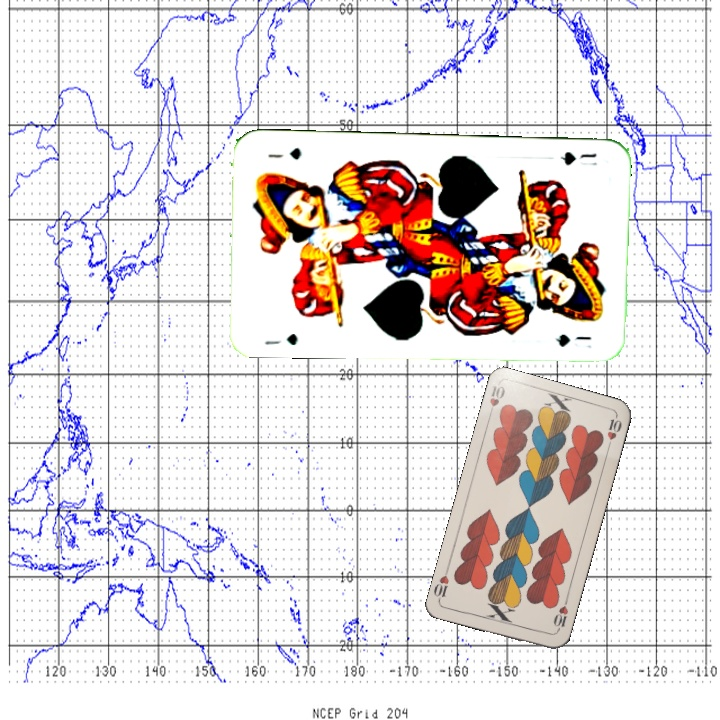GU: (557, 147, 599, 168), (260, 329, 300, 348)
H10: (485, 380, 508, 420), (549, 595, 571, 635)
